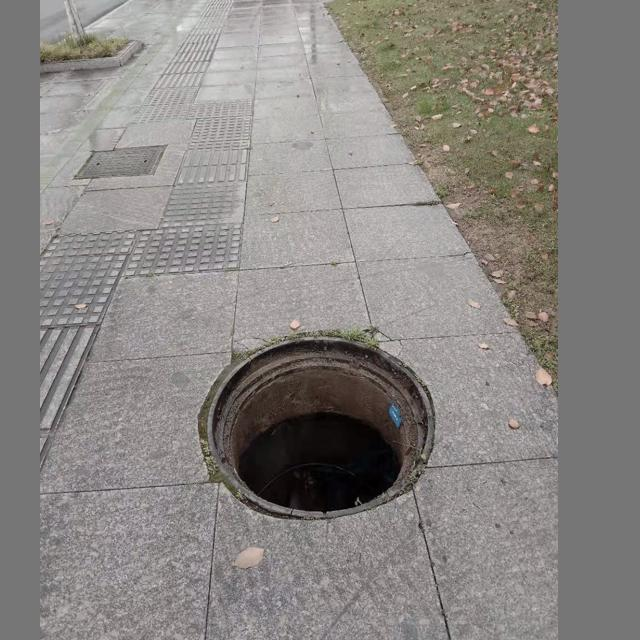good: (75, 145, 166, 178)
lose: (205, 334, 433, 521)
